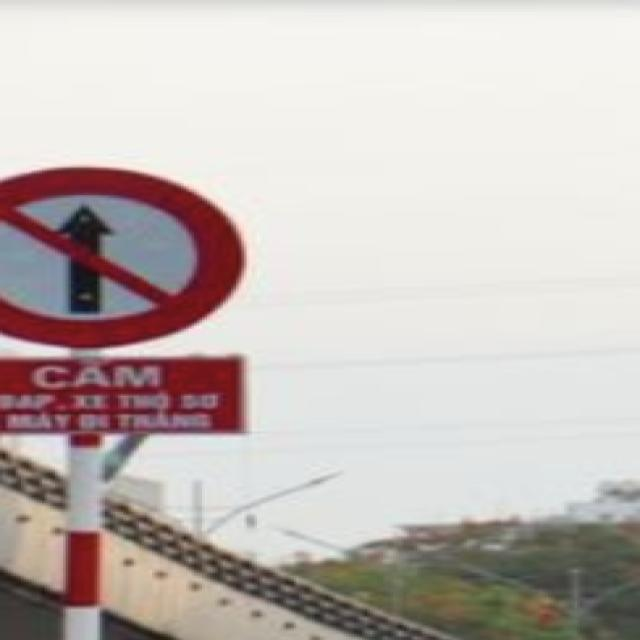136-cam-di-thang: (0, 164, 244, 348)
